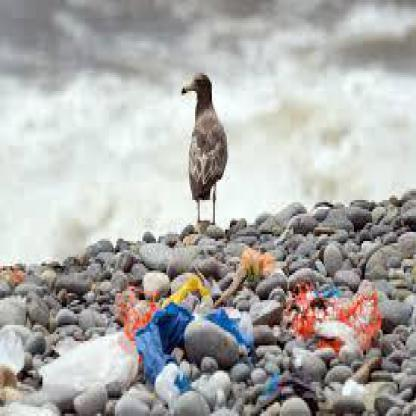Plastic: (45, 333, 131, 390)
